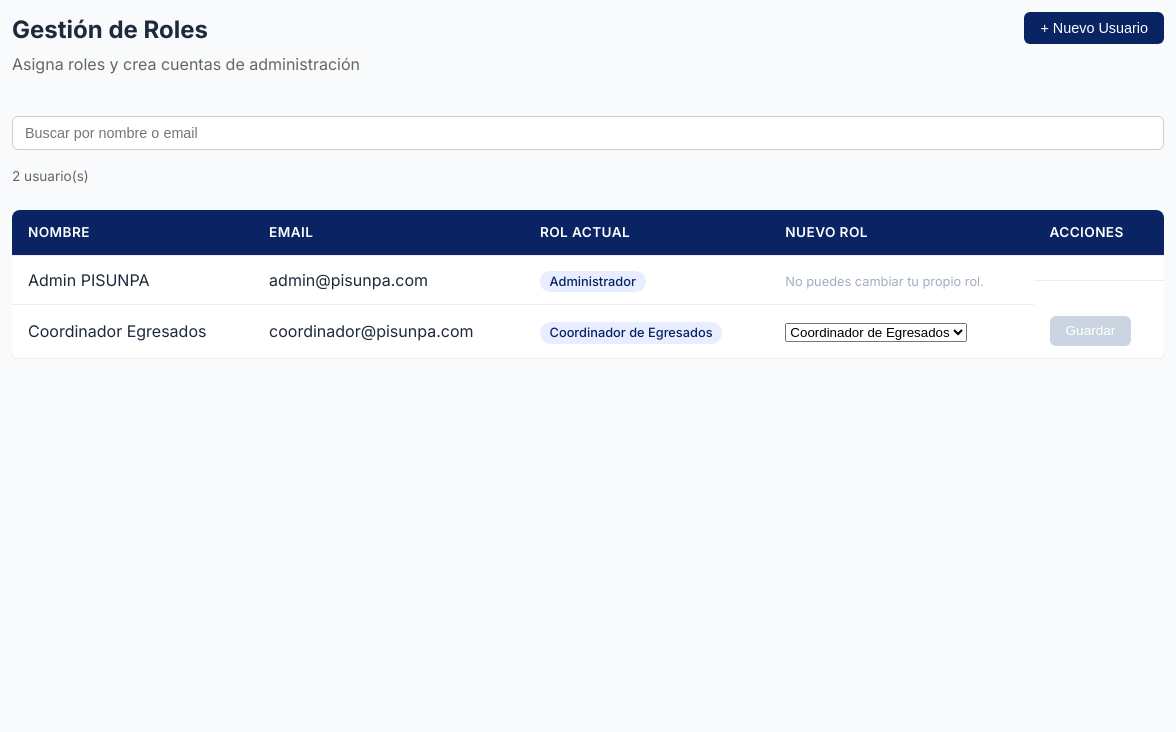
Test: GestionRolesComponent › el formulario de creación muestra por defecto el rol coordinador de egresados
Click the button with class "btn-nuevo": [1094, 28] box [1024,12,1164,44]
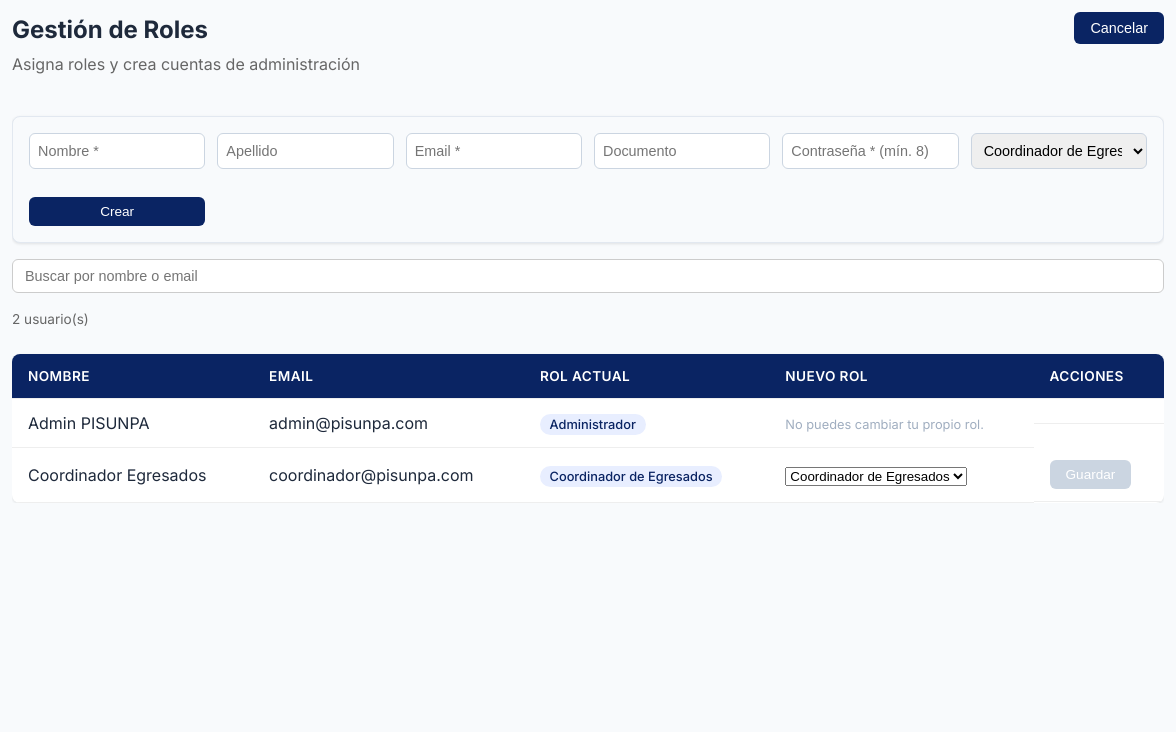
expect the 1st dropdown shows "Coordinador de Egresados": met, box [971,133,1147,169]
